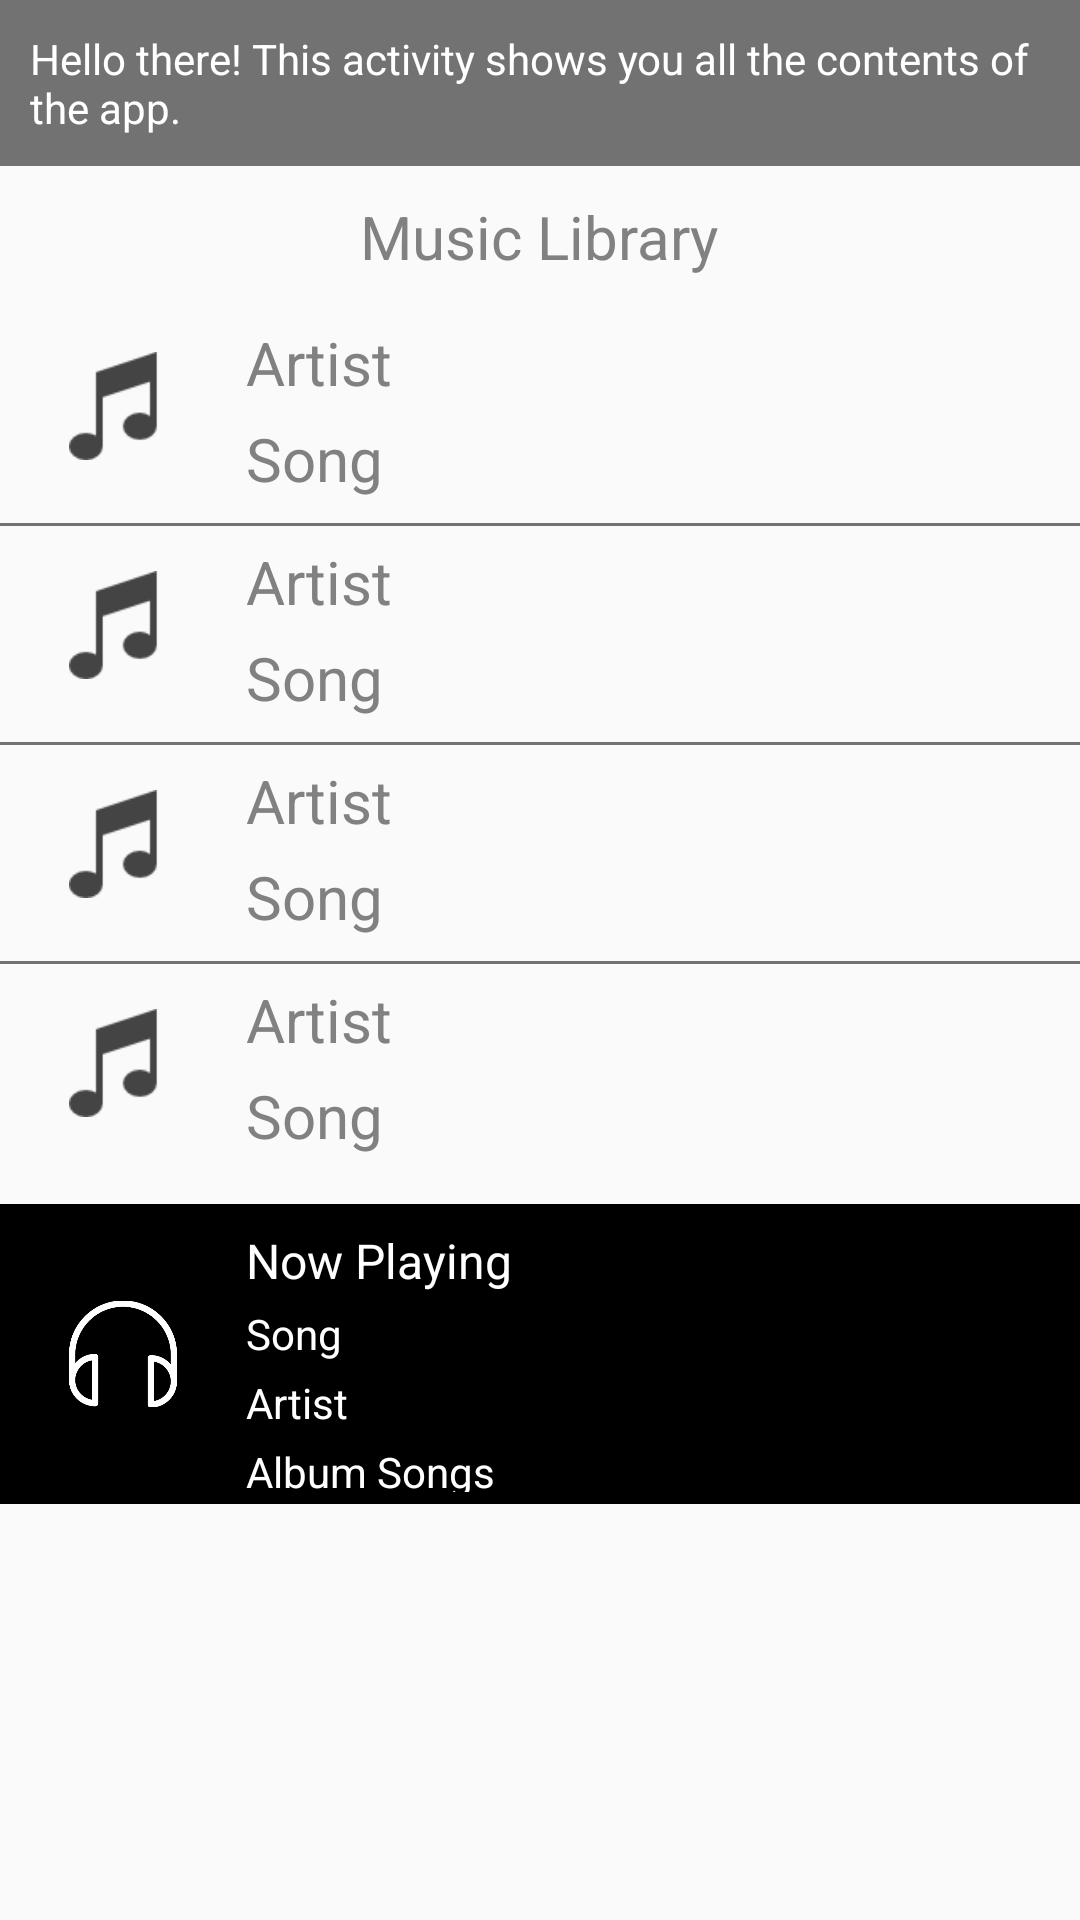

Named icons in this screenshot (1080x1920) and their bounding boxes, Rect(x1, y1, x2, y2):
music library: Rect(69, 352, 157, 460), Rect(69, 571, 157, 679), Rect(69, 790, 157, 898), Rect(69, 1009, 157, 1117)
music nowplay: Rect(69, 1301, 177, 1407)
